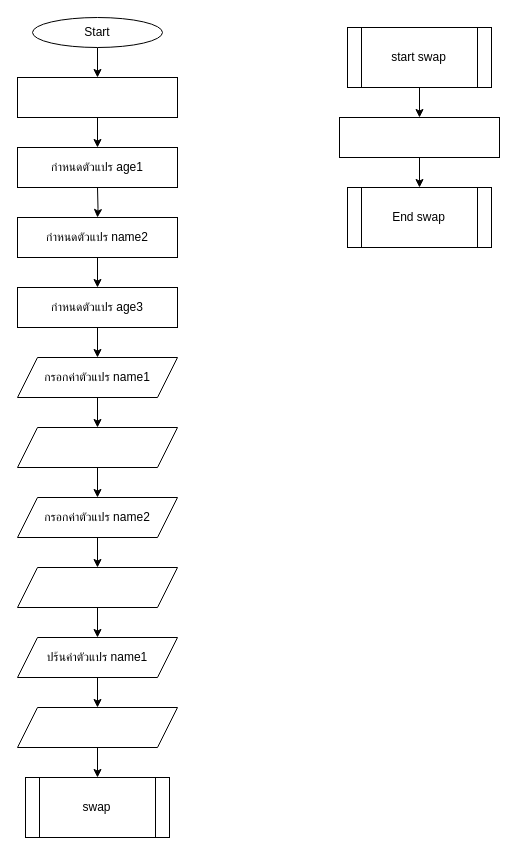
This 517x855 diagram has some shape labels left out. Here are the shapes that lost their labels. From the top down, the box of each, then its label:
(16, 76, 178, 118): กำหนดตัวแปร name1
(338, 116, 500, 158): สลับ age1 กับ age2
(16, 426, 178, 468): กรอกค่าตัวแปร age1
(16, 566, 178, 608): กรอกค่าตัวแปร age2
(16, 706, 178, 748): ปร้นค่าตัวแปร age1
